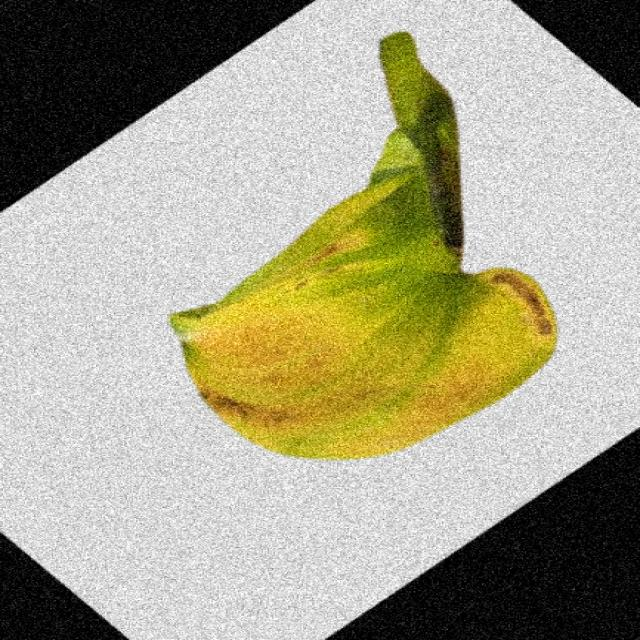daun berpenyakit kuning: (170, 32, 556, 459)
